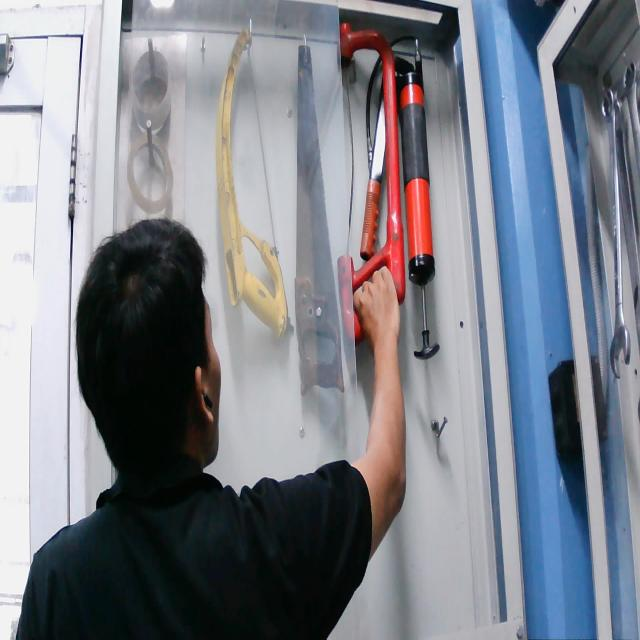gergaji_besi: (334, 16, 408, 357)
